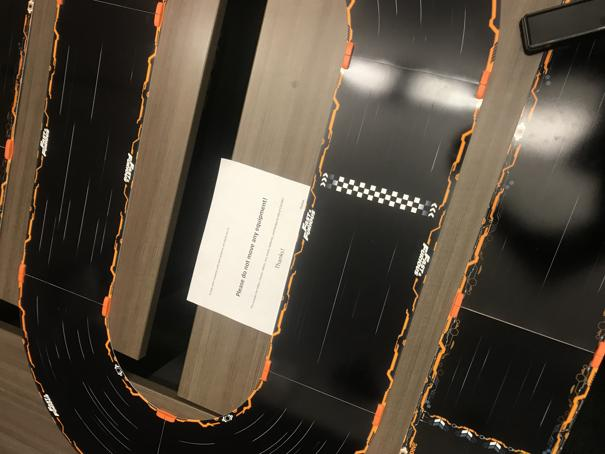Finish Line: (320, 170, 438, 221)
